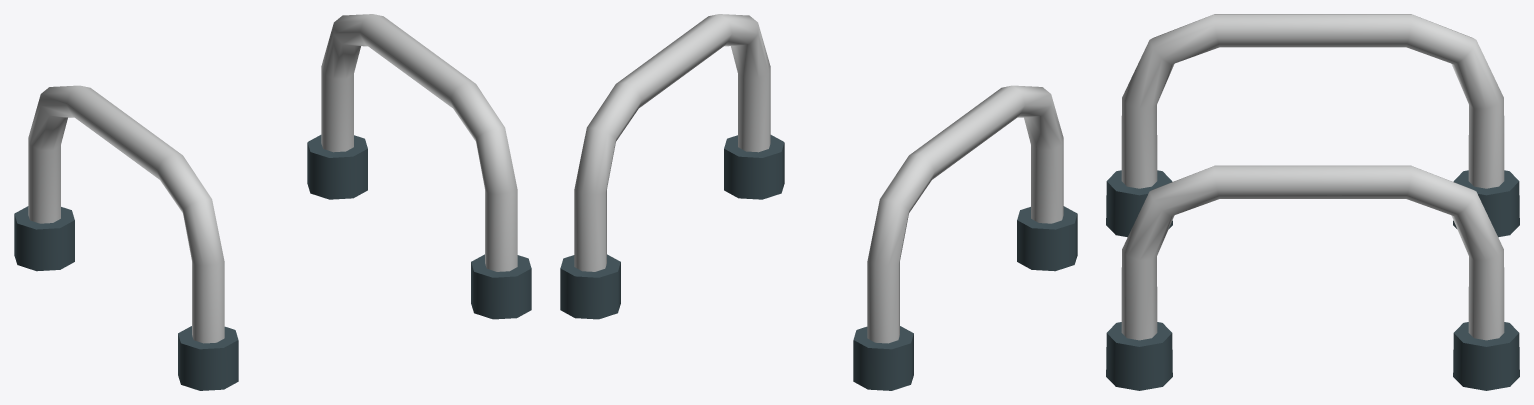
Rendered from Ladder_handle_001.glb.
The picture shows the model from 3 angles, left to right: view 1: azimuth 30°, elevation 25°; view 2: azimuth 150°, elevation 25°; view 3: azimuth 270°, elevation 25°; orthographic projection. The views are drawn at different scales.
Parts seen in each view (by area): view 1: Ladder_handle_001; view 2: Ladder_handle_001; view 3: Ladder_handle_001.
Part boxes in pixels (<box>): Ladder_handle_001: <box>14,14,531,390</box>; Ladder_handle_001: <box>560,14,1077,390</box>; Ladder_handle_001: <box>1106,14,1519,390</box>.
Bounding box in the file's own units: 1.19 × 0.6472 × 1.15.
1 material, 1 textured.
